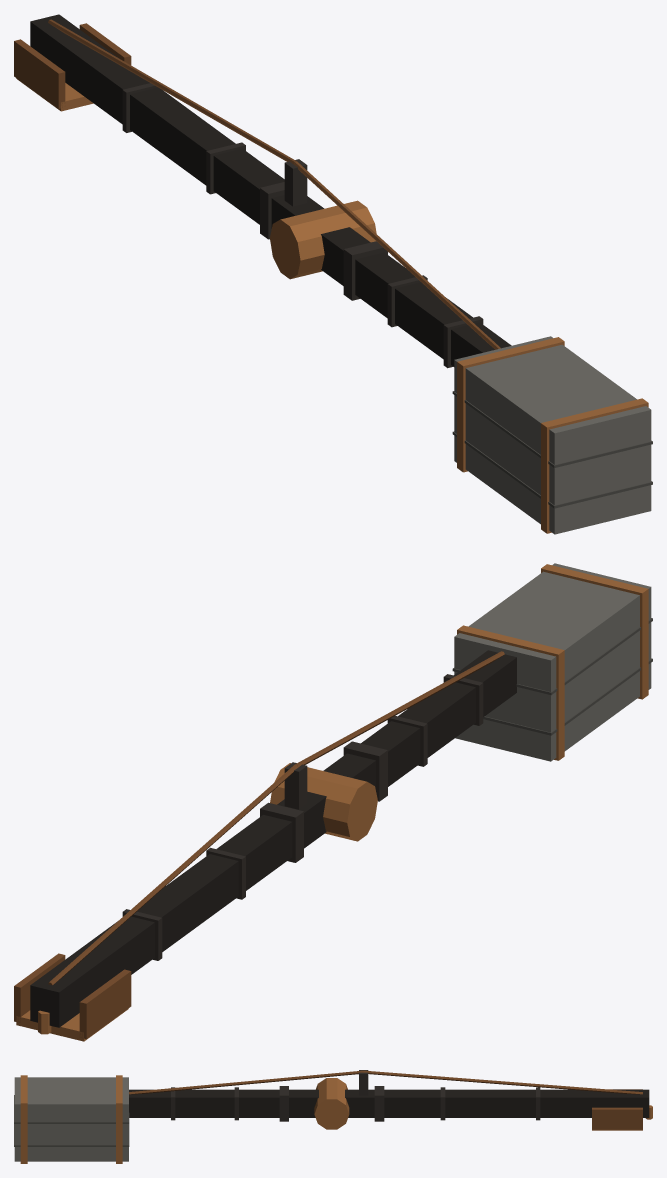
The model's file is trebuchet_arm.glb.
3 renders of one model, top to bottom at view 1: azimuth 30°, elevation 25°; view 2: azimuth 150°, elevation 25°; view 3: azimuth 270°, elevation 25°, orthographic. The views are drawn at different scales.
Parts seen in each view (by area): view 1: trebuchet_arm.001; view 2: trebuchet_arm.001; view 3: trebuchet_arm.001.
Part boxes in pixels (bbox=[...]): trebuchet_arm.001: bbox=[14, 14, 652, 534]; trebuchet_arm.001: bbox=[14, 563, 652, 1041]; trebuchet_arm.001: bbox=[14, 1070, 652, 1163].
Size of the model in its own units: 2.1 by 2.74 by 20.14.
